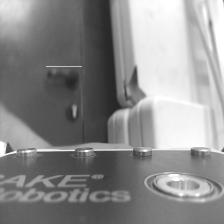Door Handle: (46, 66, 82, 91)
Lock: (66, 100, 80, 122)
